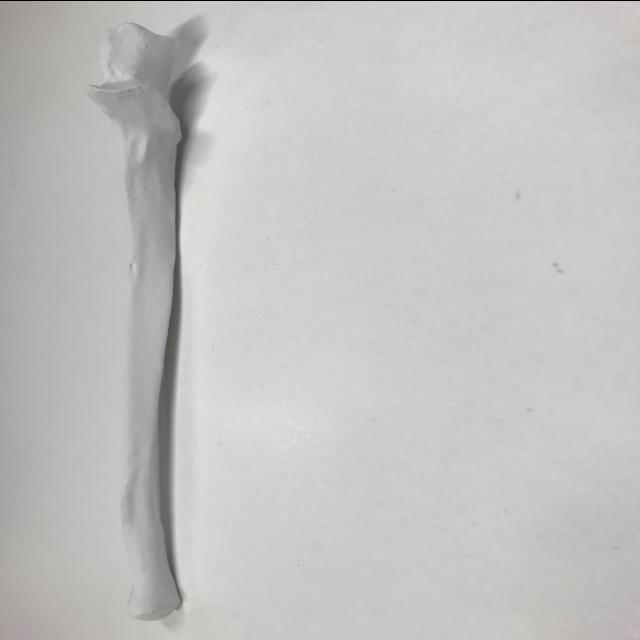bone: (76, 16, 210, 627)
